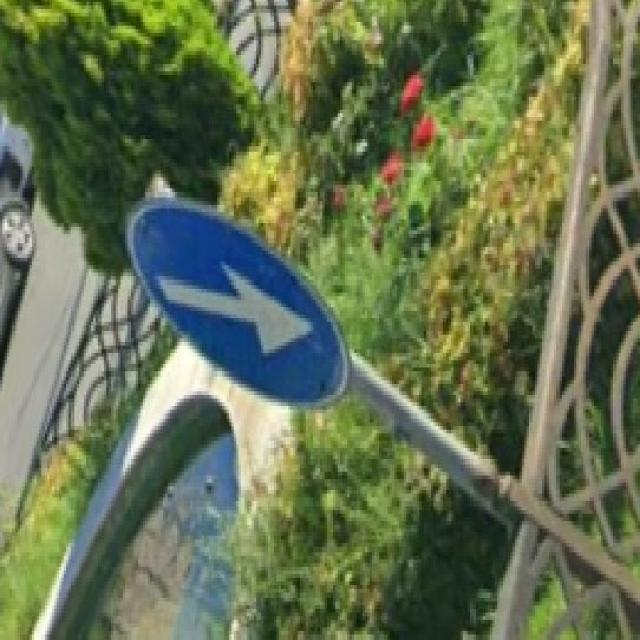Turn Right: (133, 209, 342, 406)
